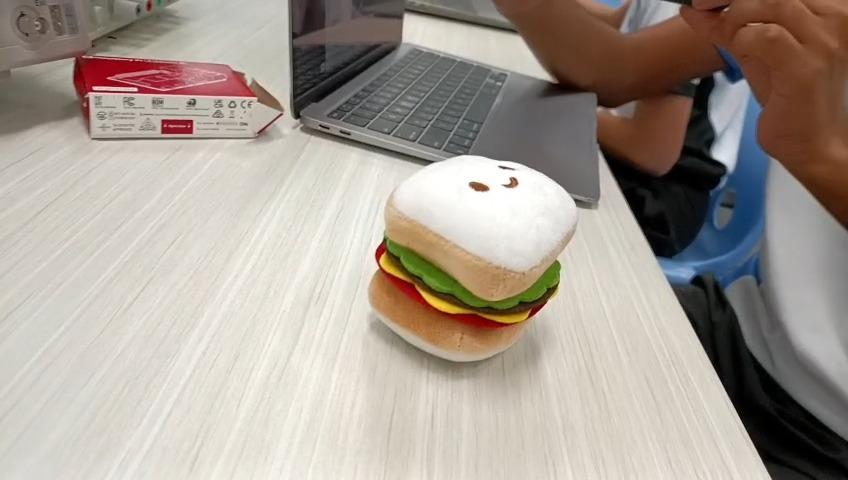objects: (368, 155, 581, 362)
